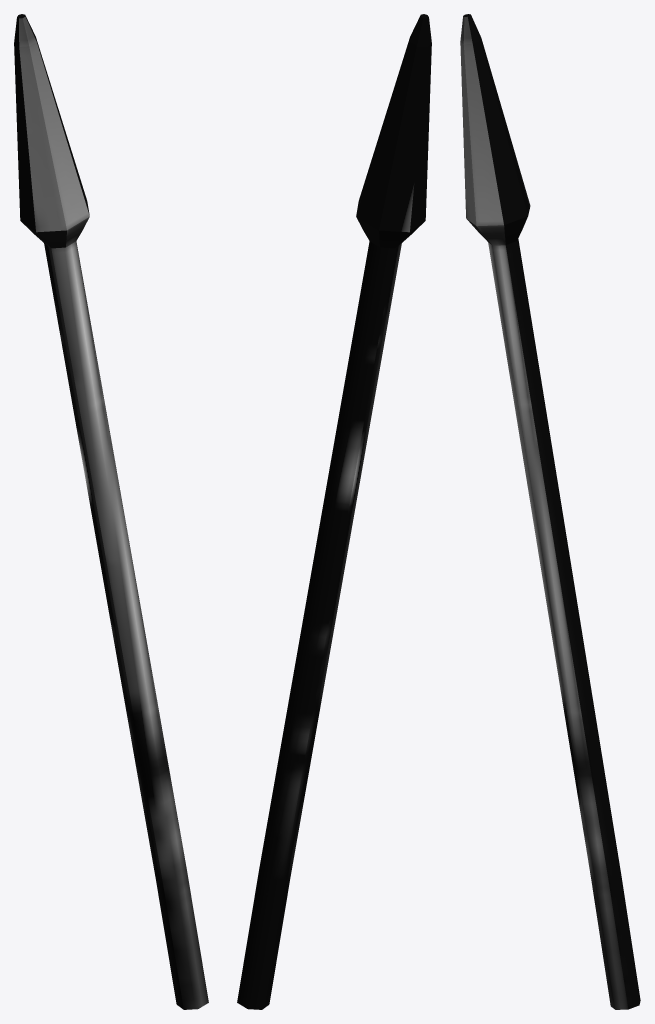
Rendered from manecilla_v.obj.
3 views of the same model, side by side, from view 1: azimuth 30°, elevation 25°; view 2: azimuth 150°, elevation 25°; view 3: azimuth 330°, elevation 25° (orthographic). The views are drawn at different scales.
Parts seen in each view (by area): view 1: Manecilla_vertical_Big_Clock; view 2: Manecilla_vertical_Big_Clock; view 3: Manecilla_vertical_Big_Clock.
Part boxes in pixels (left/top/right/bottom): Manecilla_vertical_Big_Clock: left=14, top=14, right=208, bottom=1009; Manecilla_vertical_Big_Clock: left=237, top=14, right=431, bottom=1009; Manecilla_vertical_Big_Clock: left=460, top=14, right=640, bottom=1009.
Bounding box in the file's own units: 0.4455 × 2.3 × 0.1436.
